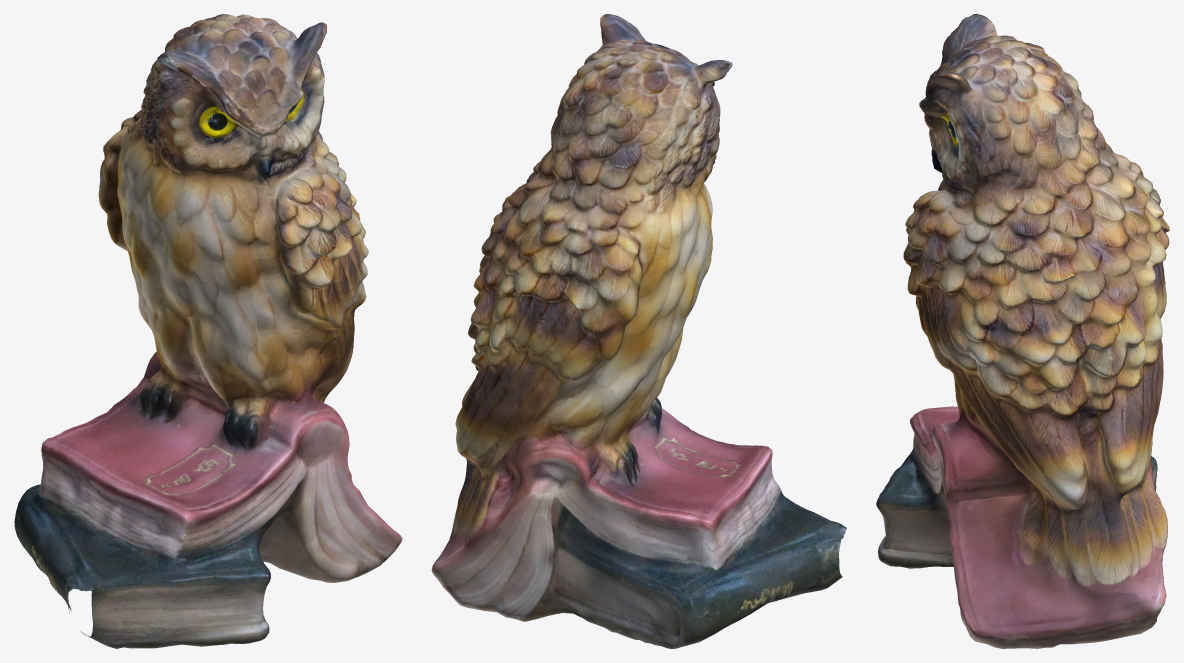
The model's file is owl-figure.glb.
The picture shows the model from 3 angles, left to right: view 1: azimuth 30°, elevation 25°; view 2: azimuth 150°, elevation 25°; view 3: azimuth 270°, elevation 25°; orthographic projection. The views are drawn at different scales.
Parts seen in each view (by area): view 1: ADV_Owl; view 2: ADV_Owl; view 3: ADV_Owl.
Boxes of the visible parts, box(x1,y1,x2,y2) form: ADV_Owl: box(14, 14, 402, 648); ADV_Owl: box(431, 14, 846, 648); ADV_Owl: box(876, 14, 1169, 648).
Size of the model in its own units: 0.7502 by 1.22 by 0.5917.
Materials: 1 (1 with a texture image).
